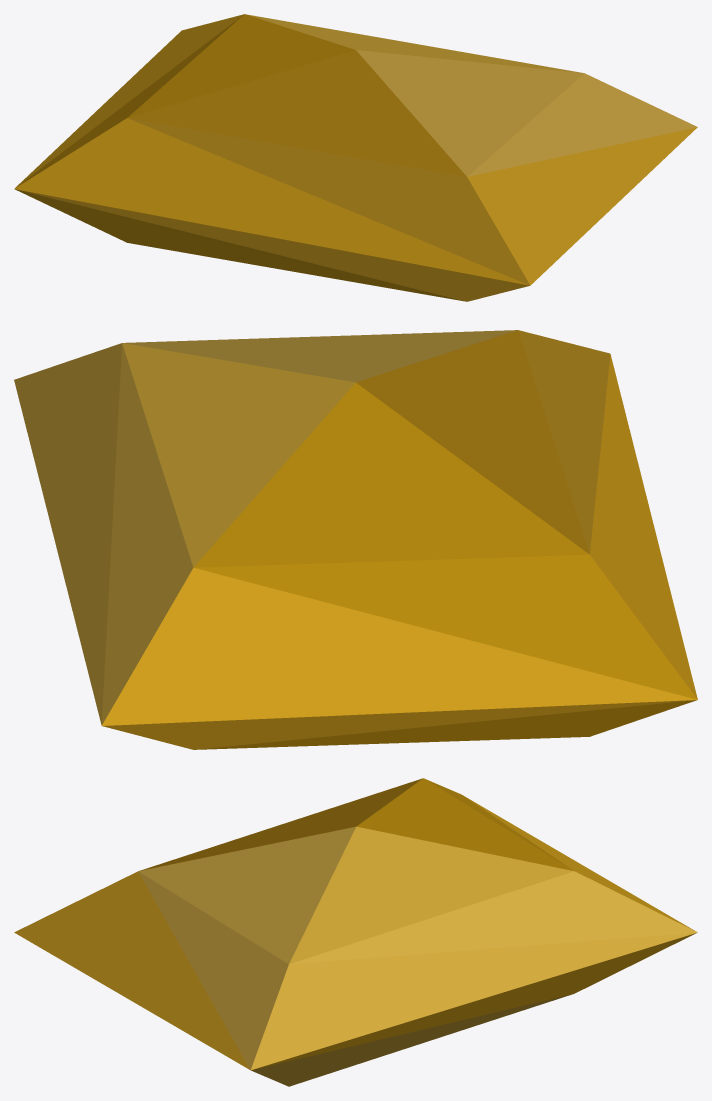
The model's file is prop_treasure_gem_topaz_1.fbx.
3 renders of one model, top to bottom at view 1: azimuth 30°, elevation 25°; view 2: azimuth 150°, elevation 25°; view 3: azimuth 270°, elevation 25°, orthographic. The views are drawn at different scales.
Parts seen in each view (by area): view 1: prop_treasure_gem_topaz_1; view 2: prop_treasure_gem_topaz_1; view 3: prop_treasure_gem_topaz_1.
Part boxes in pixels (x1,y1,x2,y2): prop_treasure_gem_topaz_1: [14, 14, 697, 301]; prop_treasure_gem_topaz_1: [14, 330, 697, 749]; prop_treasure_gem_topaz_1: [14, 778, 697, 1086].
Size of the model in its own units: 0.4772 by 0.1708 by 0.5001.
